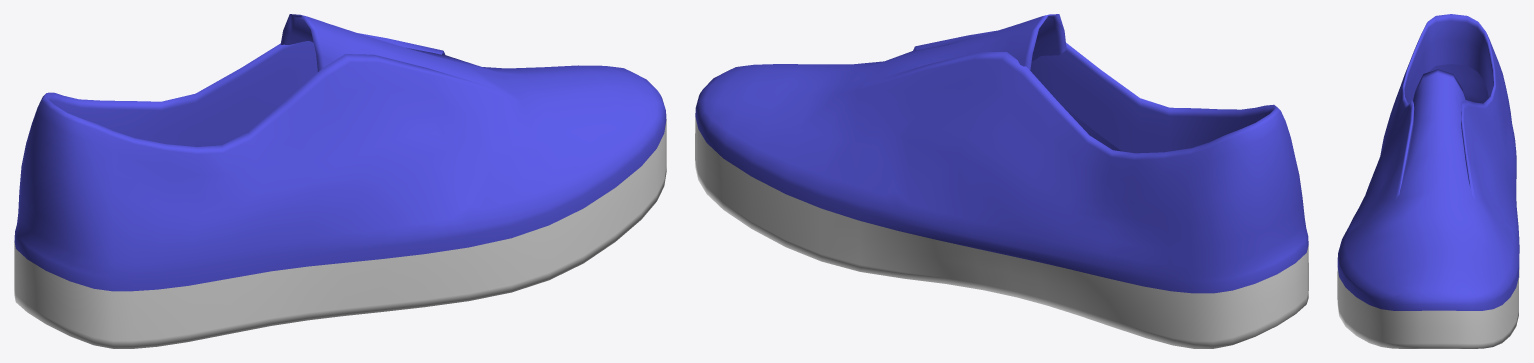
Rendered from vansbirux.fbx.
The picture shows the model from 3 angles, left to right: view 1: azimuth 30°, elevation 25°; view 2: azimuth 150°, elevation 25°; view 3: azimuth 270°, elevation 25°; orthographic projection. The views are drawn at different scales.
Visible parts, largest first — view 1: vans; view 2: vans; view 3: vans.
Boxes of the visible parts, box(x1,y1,x2,y2) form: vans: box(14, 14, 666, 348); vans: box(695, 14, 1308, 348); vans: box(1337, 14, 1519, 348).
Size of the model in its own units: 14077 by 5702 by 5045.
